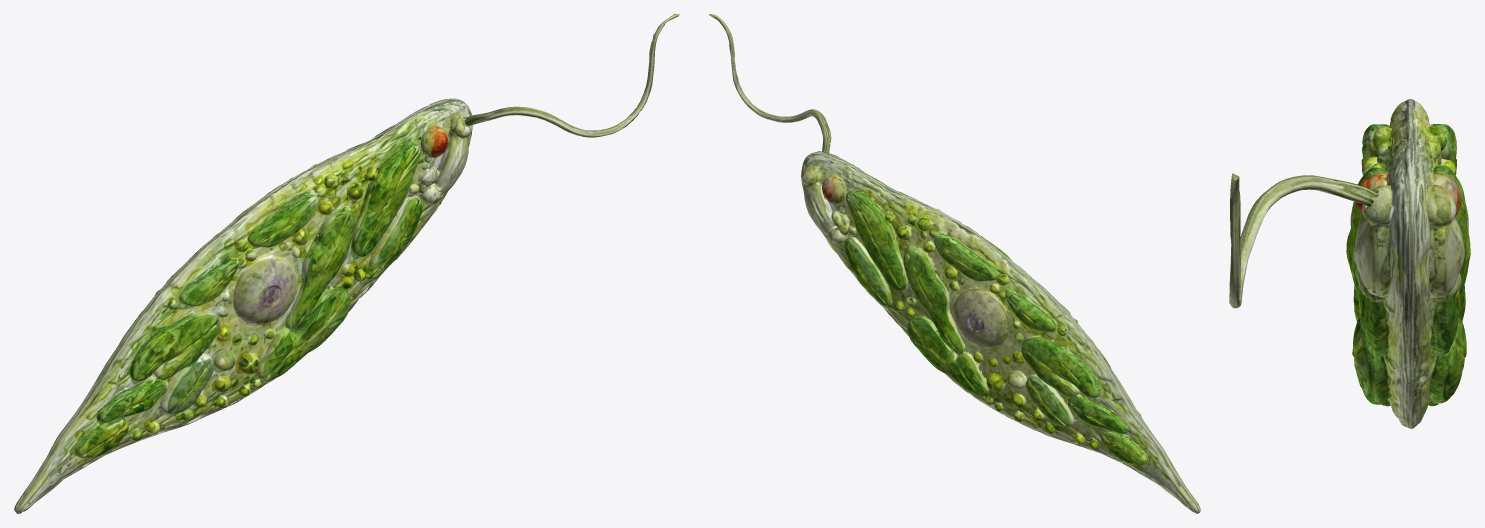
File: euglena.glb
The picture shows the model from 3 angles, left to right: view 1: azimuth 30°, elevation 25°; view 2: azimuth 150°, elevation 25°; view 3: azimuth 270°, elevation 25°; orthographic projection. The views are drawn at different scales.
Parts seen in each view (by area): view 1: tripo_node_db835dbb-4311-491b-b56e-28df19468717; view 2: tripo_node_db835dbb-4311-491b-b56e-28df19468717; view 3: tripo_node_db835dbb-4311-491b-b56e-28df19468717.
Part boxes in pixels (x1=…): tripo_node_db835dbb-4311-491b-b56e-28df19468717: x1=14, y1=14, x2=679, y2=513; tripo_node_db835dbb-4311-491b-b56e-28df19468717: x1=708, y1=14, x2=1200, y2=513; tripo_node_db835dbb-4311-491b-b56e-28df19468717: x1=1229, y1=99, x2=1470, y2=428.
Bounding box in the file's own units: 0.9821 × 0.5921 × 0.1917.
Materials: 1 (1 with a texture image).
